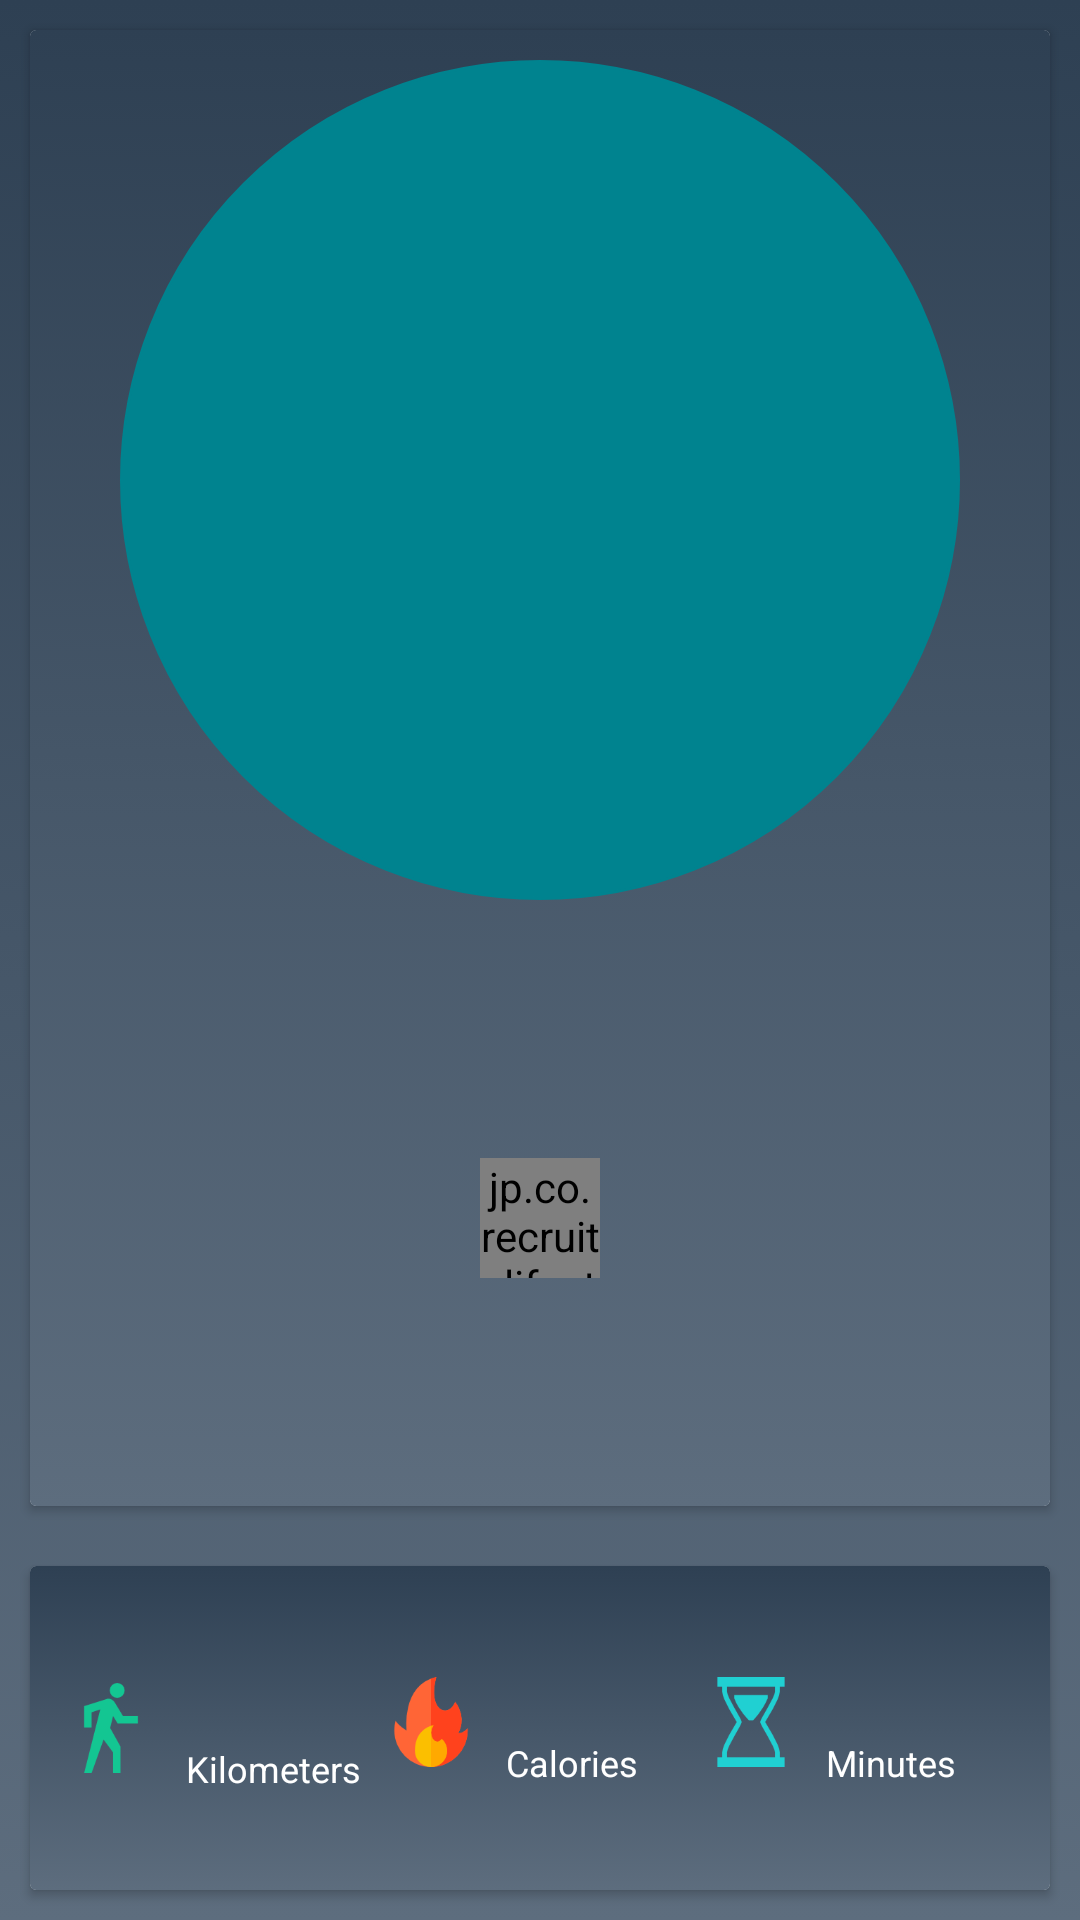

Icons on this 1080 x 1920 Android screen, each with the point to tap as (x=x, y=y):
Total time travelled walking: (x=751, y=1722)
